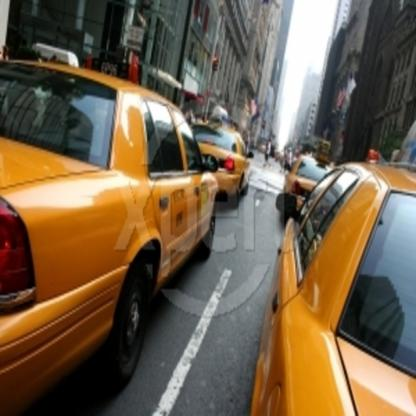Car: (0, 38, 220, 415), (249, 145, 415, 415), (191, 104, 255, 196), (284, 138, 336, 215)
